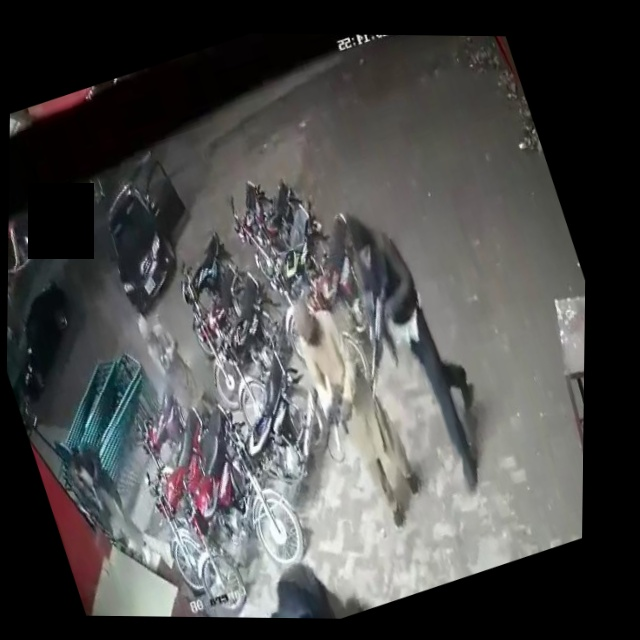gun: (332, 266, 424, 402)
